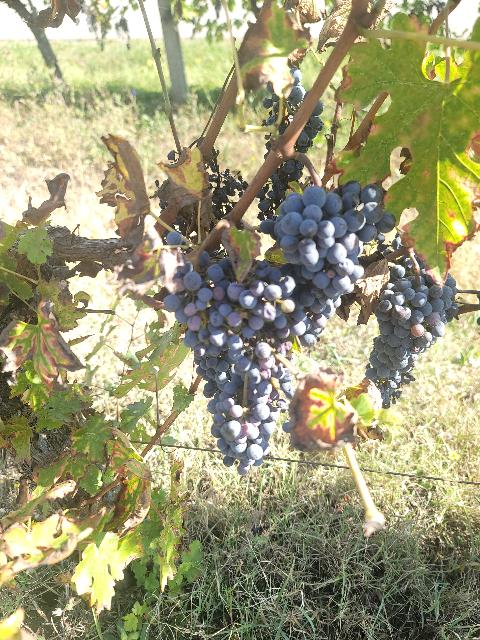grapes: (274, 182, 395, 300), (375, 265, 458, 365), (208, 381, 279, 475)
